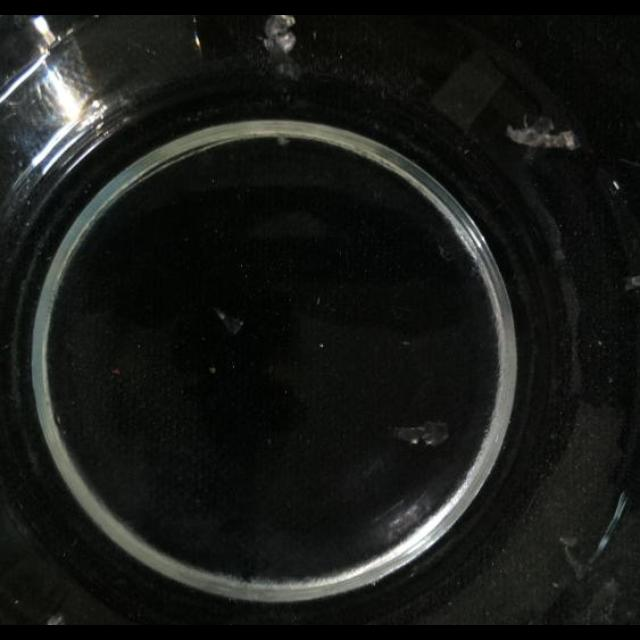Fibre: (506, 118, 576, 150), (262, 15, 298, 61), (396, 420, 450, 448), (214, 308, 244, 334), (47, 613, 65, 625), (276, 134, 290, 146)
microbeads: (110, 367, 122, 375)
